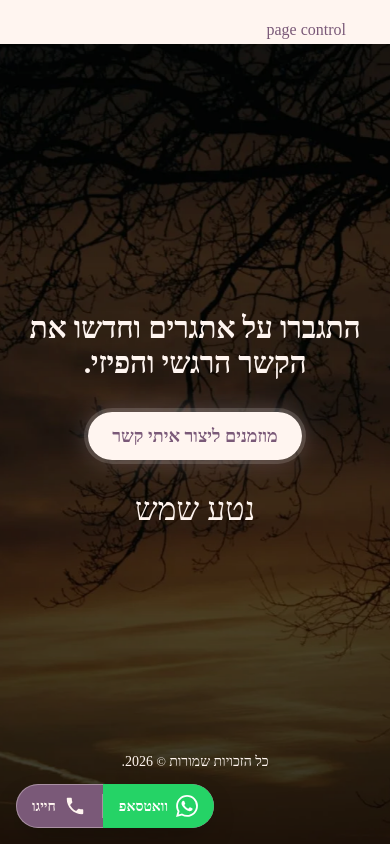
it: MobileMenu: keyboard › Escape closes it
Click the button named "פתיחת תפריט" at (368, 22), box 346,0 -> 389,44
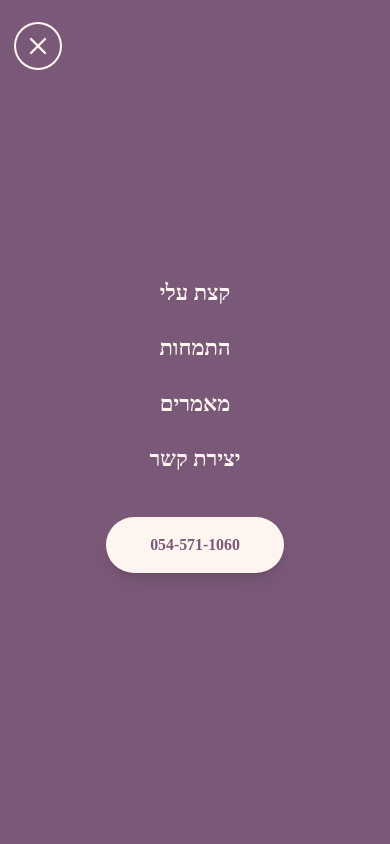
Press Escape
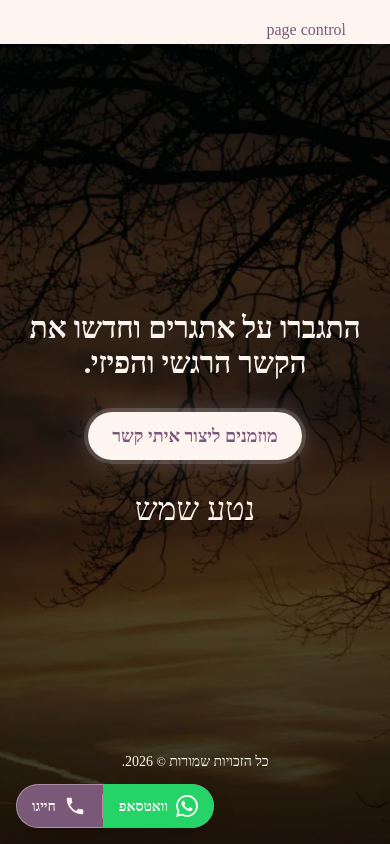
Result: the dialog is gone
